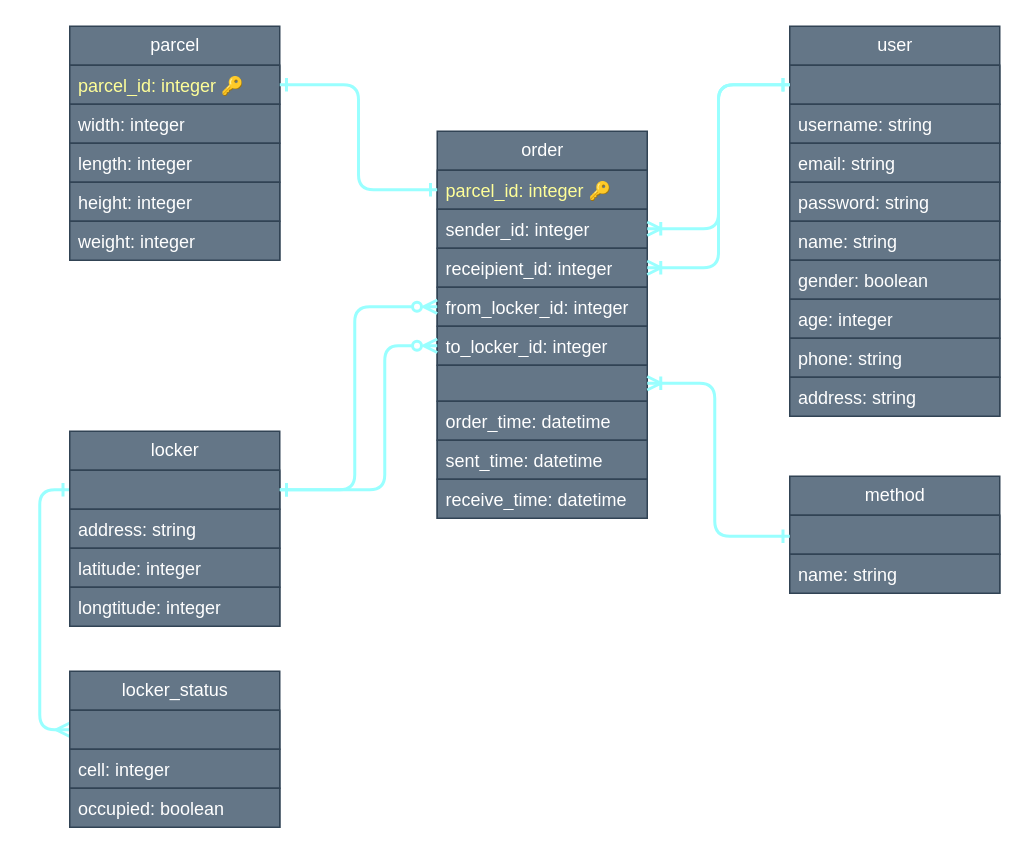
The diagram is 1026 pixels wide and 858 high, and some of its shapes have lost their labels. Each missing label, with the centre of its shape:
"locker_id: integer" goes at point (174, 729).
"locker_id: integer 🔑" goes at point (174, 489).
"method_id: integer" goes at point (541, 382).
"method_id: integer 🔑" goes at point (894, 534).
"user_id: integer 🔑" goes at point (894, 84).
